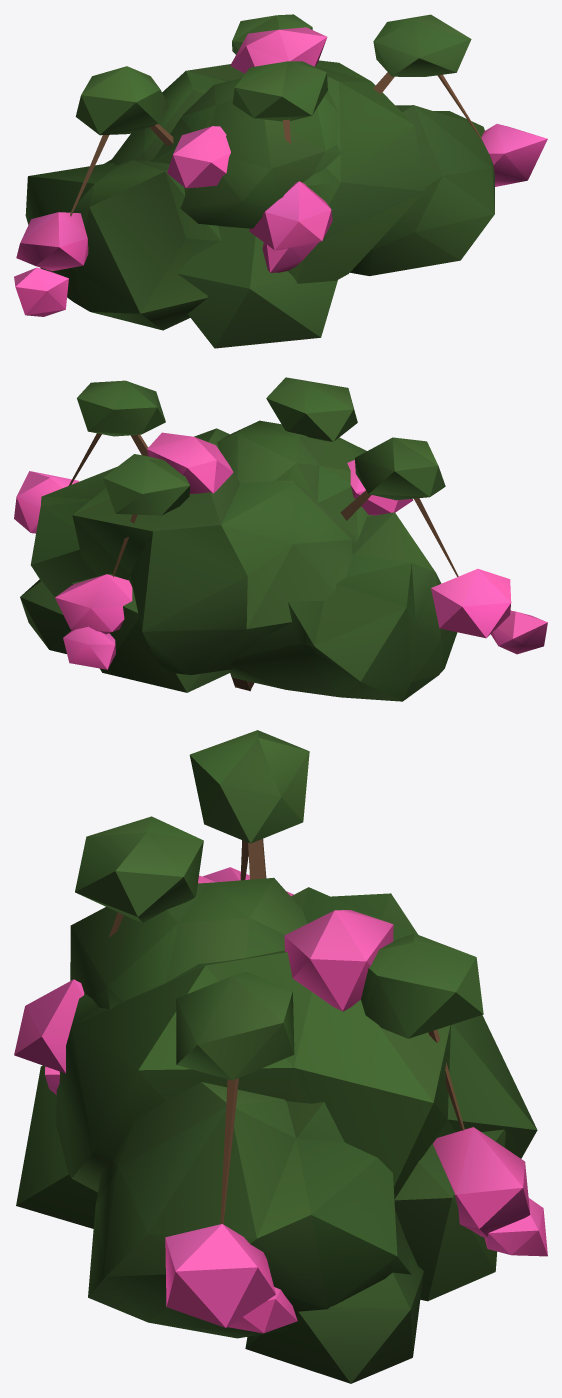
The model's file is bougainvillea.glb.
3 views of the same model, one above another, from view 1: azimuth 30°, elevation 25°; view 2: azimuth 150°, elevation 25°; view 3: azimuth 270°, elevation 25° (orthographic). The views are drawn at different scales.
Parts seen in each view (by area): view 1: bougainvillea; view 2: bougainvillea; view 3: bougainvillea.
Boxes of the visible parts, x1=… form: bougainvillea: x1=14, y1=14, x2=547, y2=348; bougainvillea: x1=14, y1=377, x2=547, y2=701; bougainvillea: x1=14, y1=730, x2=547, y2=1383.
Bounding box in the file's own units: 1.66 × 0.8461 × 0.9287.
